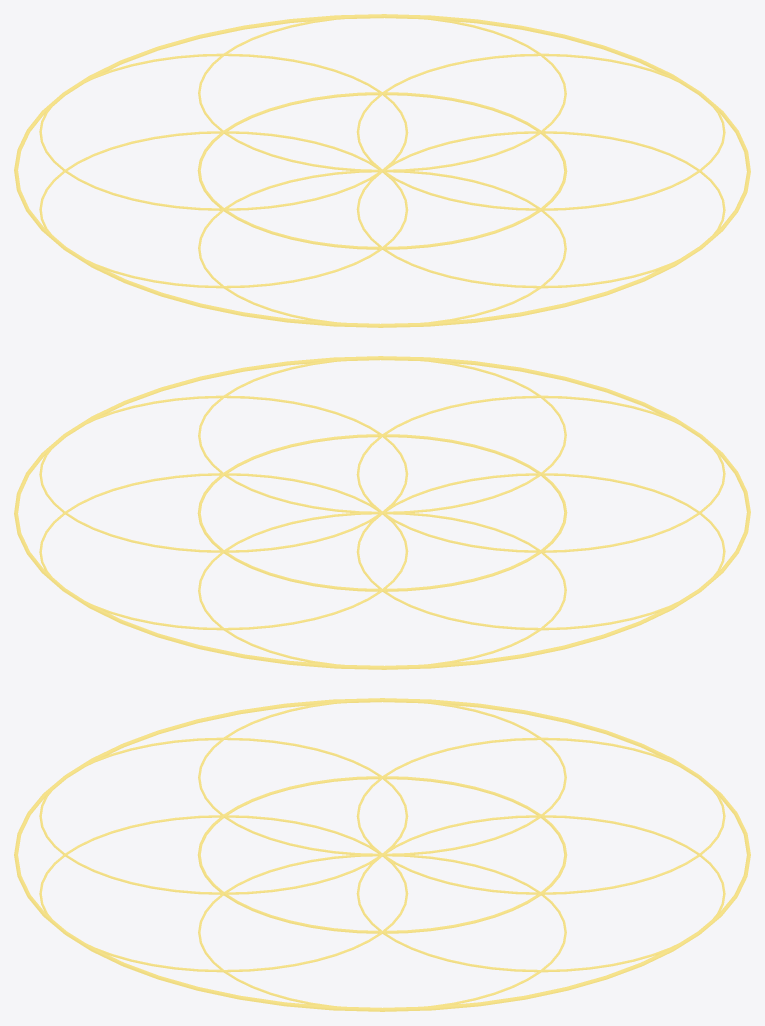
Rendered from sacred_seed_hologram.glb.
3 renders of one model, top to bottom at view 1: azimuth 30°, elevation 25°; view 2: azimuth 150°, elevation 25°; view 3: azimuth 270°, elevation 25°, orthographic.
Visible parts, largest first — view 1: Holo_Outer_Circle, Holo_Seed_Center, Holo_Seed_Petal_2, Holo_Seed_Petal_0, Holo_Seed_Petal_5, Holo_Seed_Petal_3, Holo_Seed_Petal_1, Holo_Seed_Petal_4; view 2: Holo_Outer_Circle, Holo_Seed_Center, Holo_Seed_Petal_4, Holo_Seed_Petal_0, Holo_Seed_Petal_1, Holo_Seed_Petal_3, Holo_Seed_Petal_5, Holo_Seed_Petal_2; view 3: Holo_Outer_Circle, Holo_Seed_Center, Holo_Seed_Petal_2, Holo_Seed_Petal_4, Holo_Seed_Petal_1, Holo_Seed_Petal_5, Holo_Seed_Petal_3, Holo_Seed_Petal_0.
Part boxes in pixels (x1,y1,x2,y2): Holo_Outer_Circle: (14,14,750,327); Holo_Seed_Center: (197,92,567,249); Holo_Seed_Petal_2: (39,53,408,210); Holo_Seed_Petal_0: (356,53,725,210); Holo_Seed_Petal_5: (356,131,725,288); Holo_Seed_Petal_3: (39,131,408,288); Holo_Seed_Petal_1: (198,16,566,170); Holo_Seed_Petal_4: (198,170,566,322); Holo_Outer_Circle: (14,356,750,669); Holo_Seed_Center: (197,434,567,591); Holo_Seed_Petal_4: (356,395,725,552); Holo_Seed_Petal_0: (39,395,408,552); Holo_Seed_Petal_1: (39,473,408,630); Holo_Seed_Petal_3: (356,473,725,630); Holo_Seed_Petal_5: (198,358,566,512); Holo_Seed_Petal_2: (198,512,566,664); Holo_Outer_Circle: (14,698,750,1011); Holo_Seed_Center: (197,776,567,933); Holo_Seed_Petal_2: (356,737,725,894); Holo_Seed_Petal_4: (39,737,408,894); Holo_Seed_Petal_1: (356,815,725,972); Holo_Seed_Petal_5: (39,815,408,972); Holo_Seed_Petal_3: (198,700,566,854); Holo_Seed_Petal_0: (198,854,566,1006).
Bounding box in the file's own units: 7.24 × 0.04 × 7.24.
